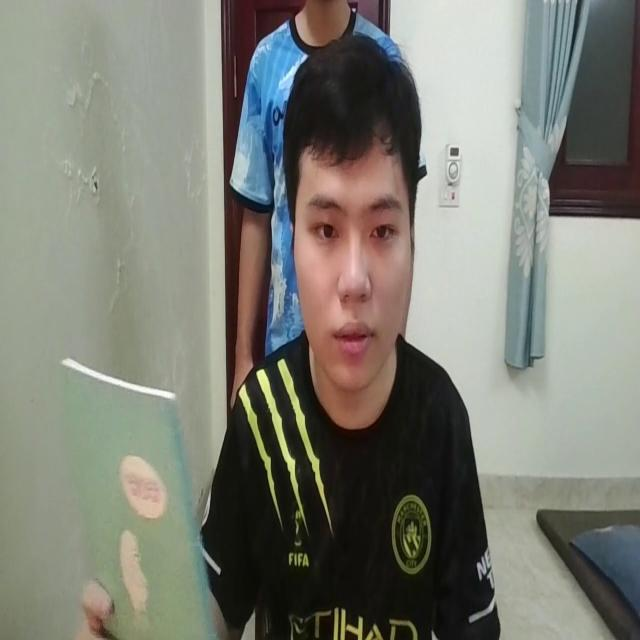book: (61, 348, 213, 640)
student: (207, 37, 503, 640)
